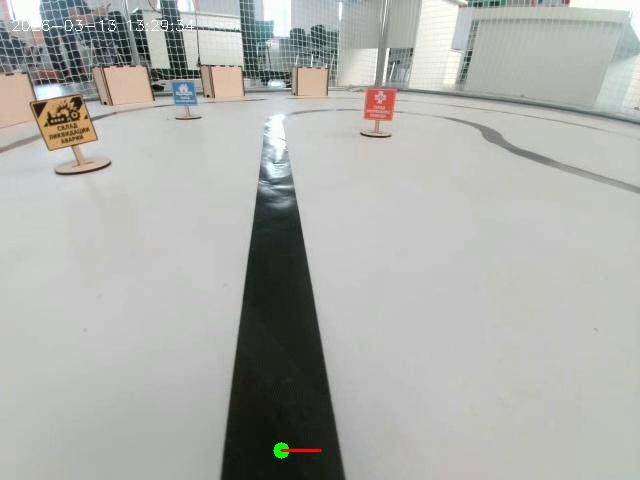flood: (168, 71, 201, 130)
industrial: (17, 68, 116, 194)
medical: (359, 77, 397, 151)
